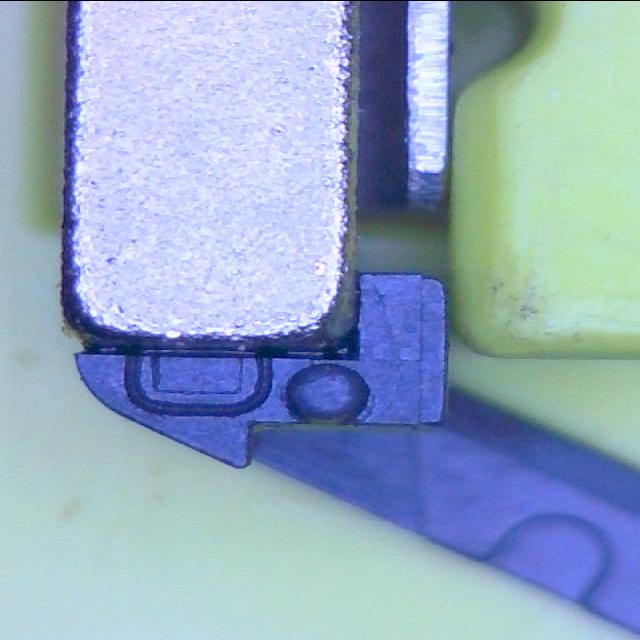lacking: (122, 348, 276, 416)
